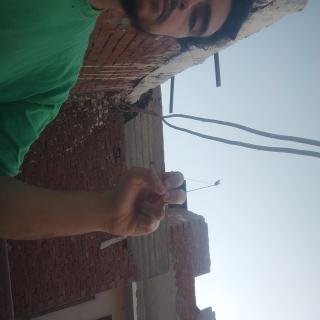QAAF: (122, 178, 180, 294)
